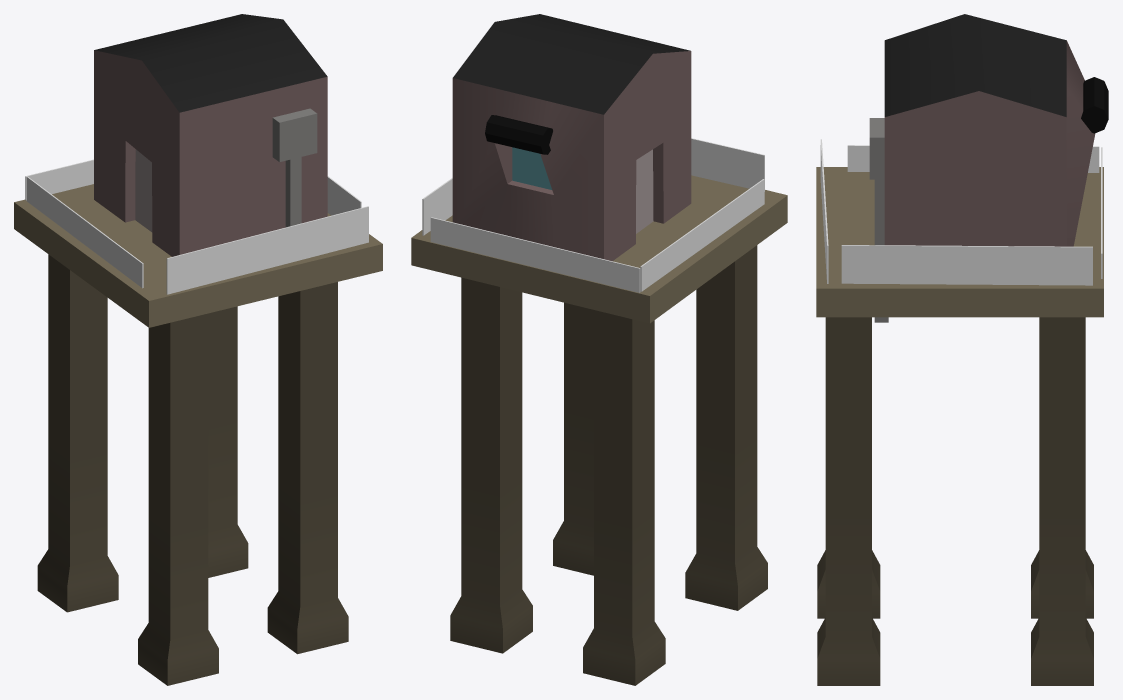
The model's file is Watchtower.fbx.
3 views of the same model, side by side, from view 1: azimuth 30°, elevation 25°; view 2: azimuth 150°, elevation 25°; view 3: azimuth 270°, elevation 25° (orthographic). The views are drawn at different scales.
Visible parts, largest first — view 1: pCube8, pCube2, pCube3, pCube5, pCube7, pCube6, pCube13, pCube4, pCube1, pCube12, pCube10, pCube11 (+2 smaller); view 2: pCube8, pCube6, pCube5, pCube3, pCube7, pCube2, pCube1, pCube11, pCube4, pCube12, pCube13, pCylinder1 (+1 smaller); view 3: pCube8, pCube2, pCube6, pCube7, pCube14, pCylinder1, pCube10, pCube1, pCube12, pCube9, pCube4, pCube13.
Part boxes in pixels (x1,y1,x2,y2): pCube8: (94,14,327,256); pCube2: (267,282,348,654); pCube3: (138,313,218,685); pCube5: (37,254,118,611); pCube7: (14,184,382,327); pCube6: (208,306,248,577); pCube13: (166,206,368,294); pCube4: (41,443,118,612); pCube1: (167,517,218,685); pCube12: (26,176,143,288); pCube10: (272,108,317,162); pCube11: (25,159,93,200); pCube8: (452,14,691,261); pCube6: (450,277,532,653); pCube5: (583,310,665,685); pCube3: (685,245,767,610); pCube7: (411,175,787,323); pCube2: (553,302,593,575); pCube1: (685,438,737,610); pCube11: (430,217,640,292); pCube4: (588,512,632,652); pCube12: (640,179,764,291); pCube13: (691,138,764,191); pCylinder1: (485,115,552,154); pCube8: (884,14,1095,246); pCube2: (817,317,880,685); pCube6: (1031,317,1093,685); pCube7: (816,167,1103,317); pCube14: (841,245,1092,285); pCylinder1: (1081,77,1108,133); pCube10: (869,118,884,179); pCube1: (817,550,880,618); pCube12: (847,145,1099,172); pCube9: (874,179,888,322); pCube4: (1031,550,1093,618); pCube13: (820,139,828,283).
Size of the model in its own units: 6.19 by 14.28 by 6.29.
